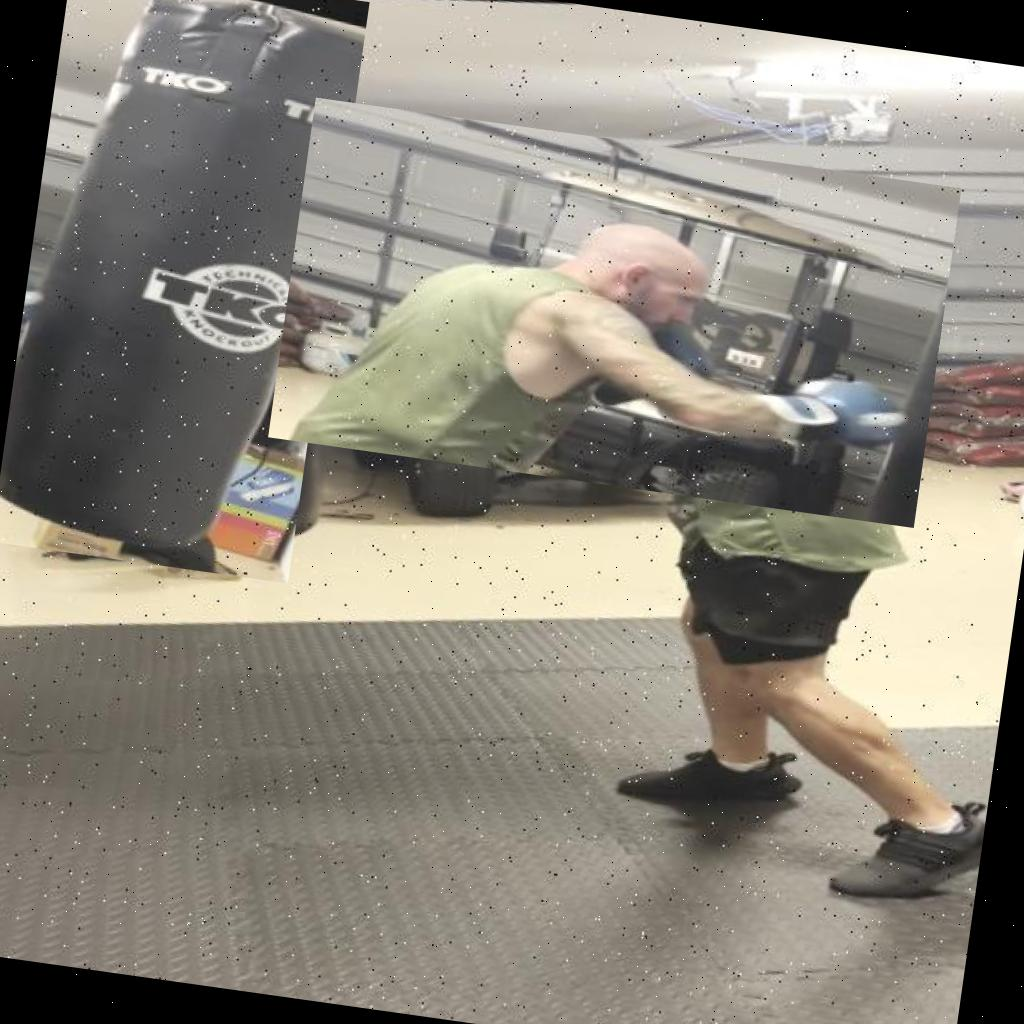bag: (0, 0, 369, 583)
cross: (268, 98, 961, 528)
